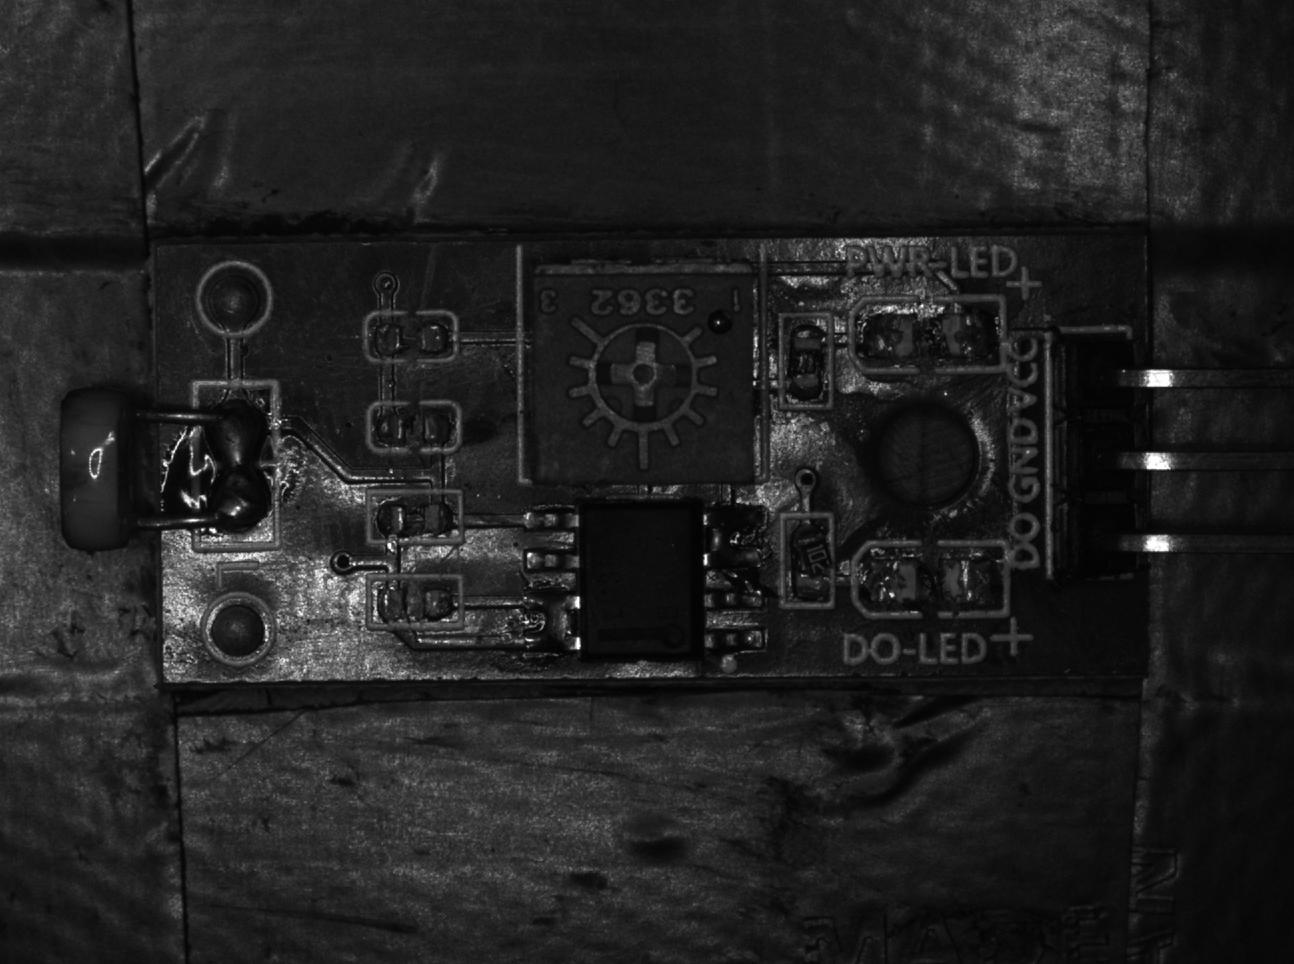bridge: (192, 384, 279, 548), (517, 586, 584, 661), (703, 505, 769, 577)
lifted: (782, 513, 838, 611)
miss: (369, 571, 470, 633), (366, 488, 470, 546), (366, 408, 460, 455), (359, 315, 455, 360), (784, 310, 826, 404)
